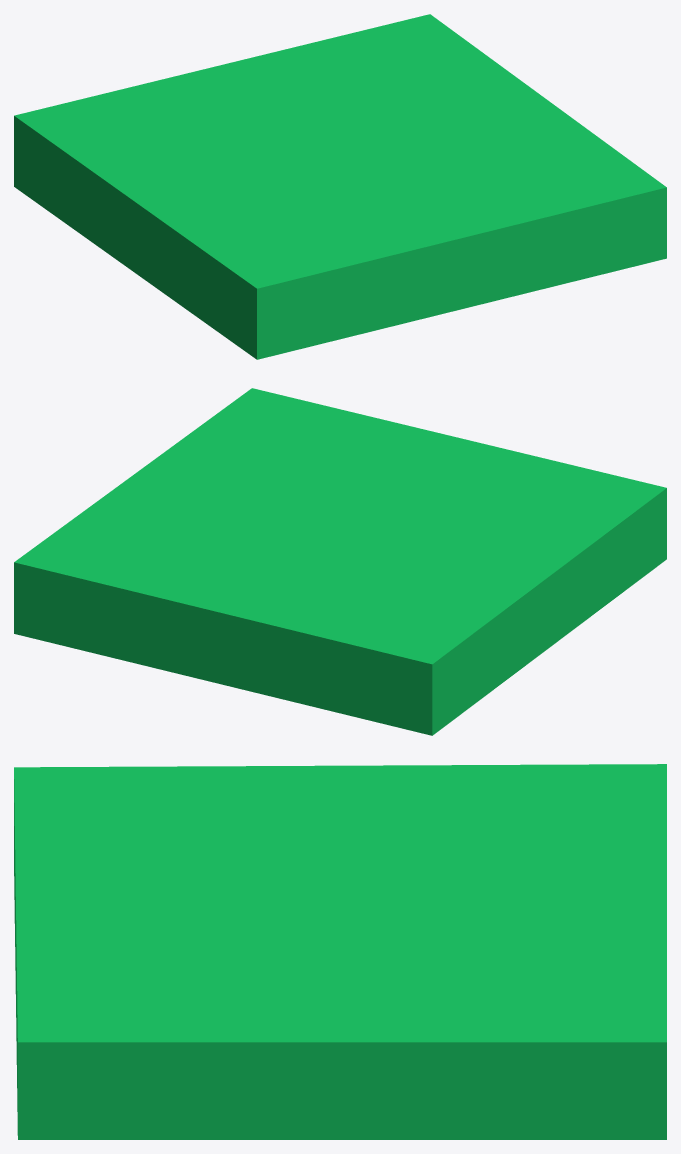
3 views of the same model, one above another, from view 1: azimuth 30°, elevation 25°; view 2: azimuth 150°, elevation 25°; view 3: azimuth 270°, elevation 25° (orthographic). The views are drawn at different scales.
Visible parts, largest first — view 1: Cube; view 2: Cube; view 3: Cube.
Part boxes in pixels (box(x1,y1,x2,y2)): Cube: box(14, 14, 666, 359); Cube: box(14, 388, 666, 735); Cube: box(14, 764, 666, 1139).
Bounding box in the file's own units: 533 × 87.09 × 529.
